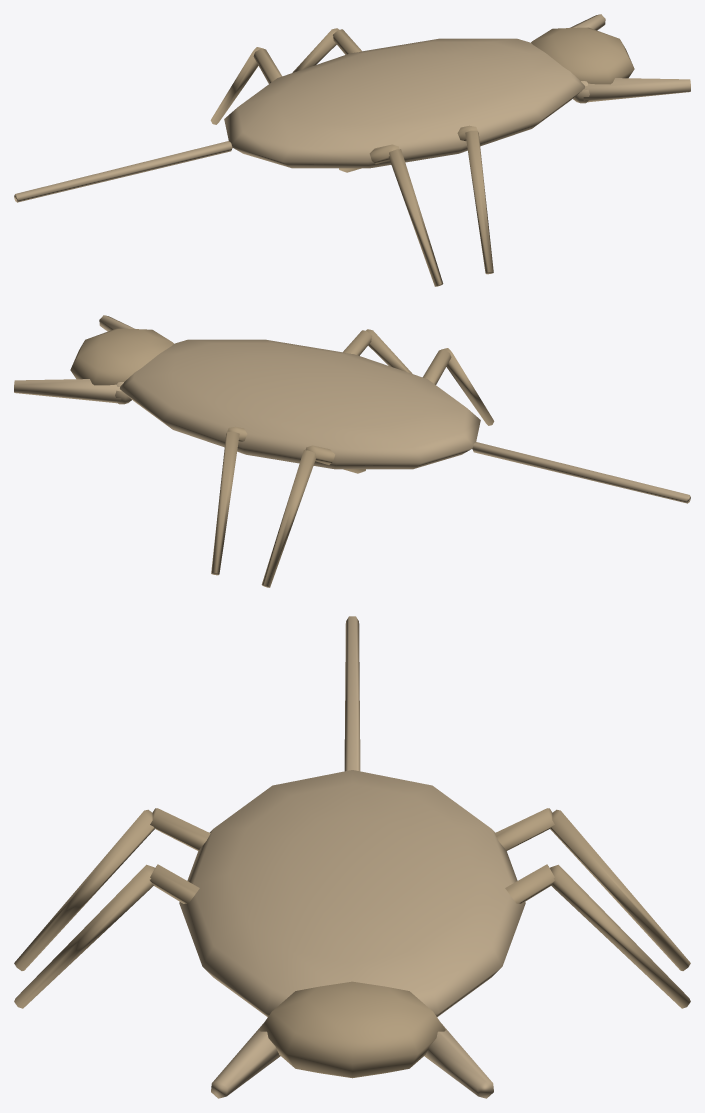
Rendered from water-walking-stick.glb.
3 renders of one model, top to bottom at view 1: azimuth 30°, elevation 25°; view 2: azimuth 150°, elevation 25°; view 3: azimuth 270°, elevation 25°, orthographic. The views are drawn at different scales.
Visible parts, largest first — view 1: e; view 2: e; view 3: e.
Part boxes in pixels (x1=…): e: x1=14, y1=14, x2=690, y2=286; e: x1=14, y1=315, x2=690, y2=587; e: x1=14, y1=616, x2=690, y2=1098.
Size of the model in its own units: 0.7315 by 0.1238 by 0.457.
